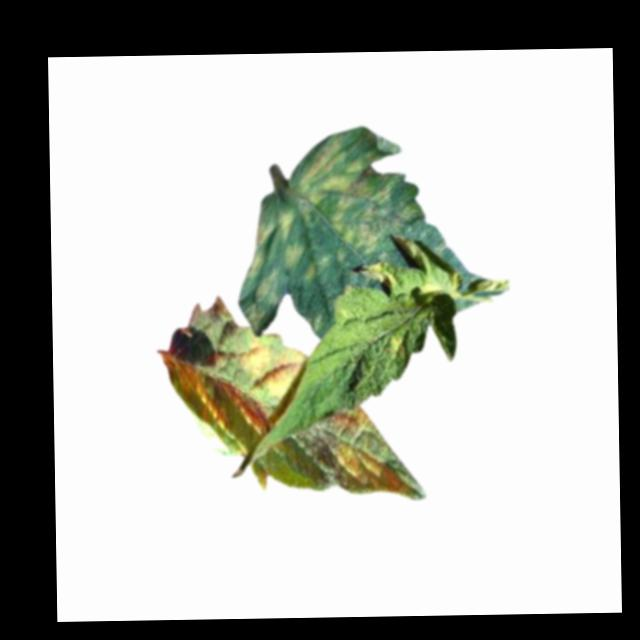Leaf_Mold: (296, 131, 416, 259), (163, 352, 266, 445), (326, 405, 409, 495), (242, 208, 299, 329), (241, 335, 309, 402), (383, 332, 407, 360)
